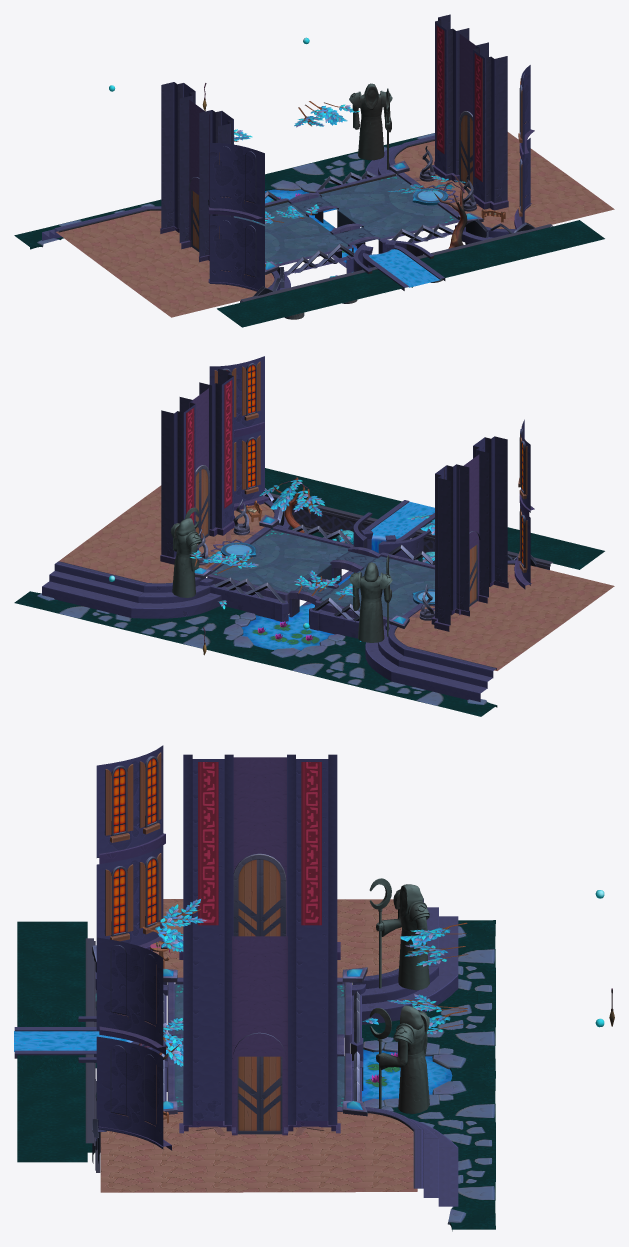
File: magic_atlas.fbx
The picture shows the model from 3 angles, top to bottom: view 1: azimuth 30°, elevation 25°; view 2: azimuth 150°, elevation 25°; view 3: azimuth 270°, elevation 25°; orthographic projection. The views are drawn at different scales.
Visible parts, largest first — view 1: loca; view 2: loca; view 3: loca.
Part boxes in pixels (box(x1,y1,x2,y2)): loca: box(14, 14, 614, 327); loca: box(14, 356, 614, 716); loca: box(14, 745, 614, 1231).
Bounding box in the file's own units: 6218 × 2283 × 5106.
1 material, 1 textured.
